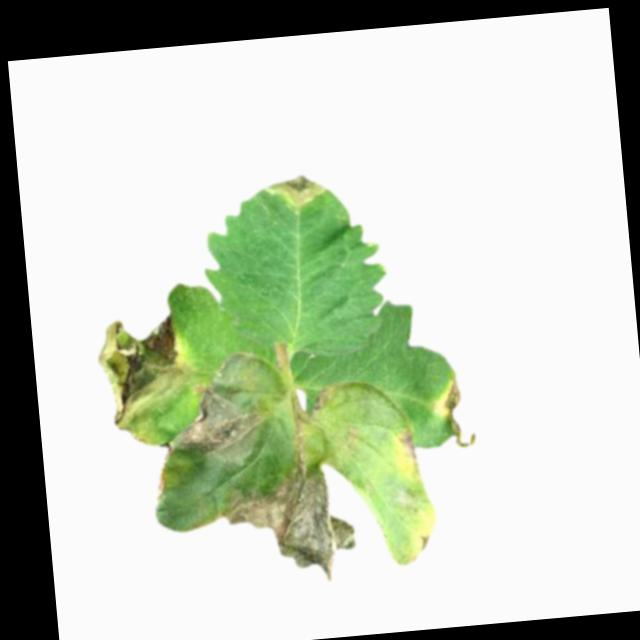Late_blight: (230, 456, 358, 591), (91, 310, 198, 448), (166, 351, 272, 470), (431, 376, 478, 450), (264, 170, 330, 206), (150, 445, 179, 500), (396, 426, 420, 467), (308, 386, 334, 421)
